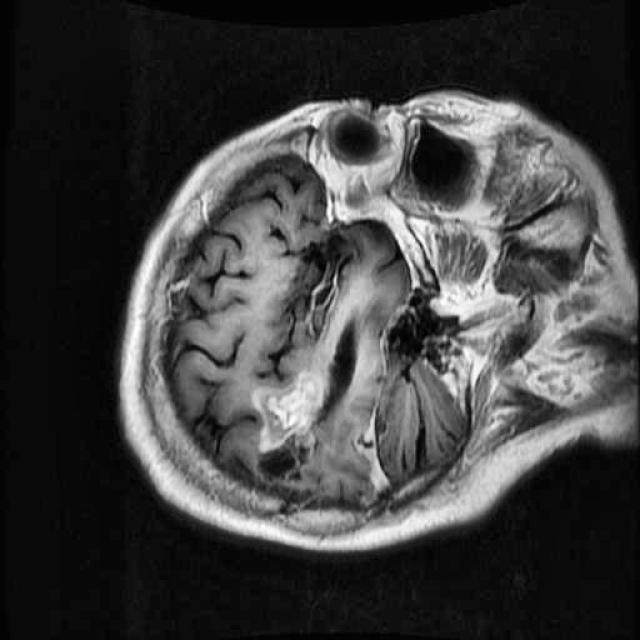Tumor: (228, 353, 372, 462)
